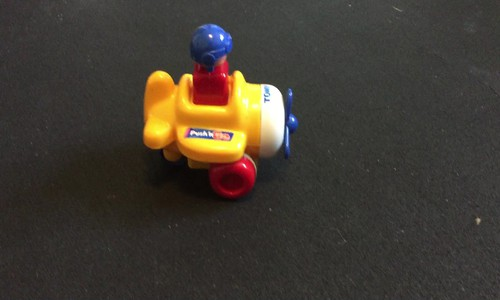toy: (145, 25, 305, 211)
